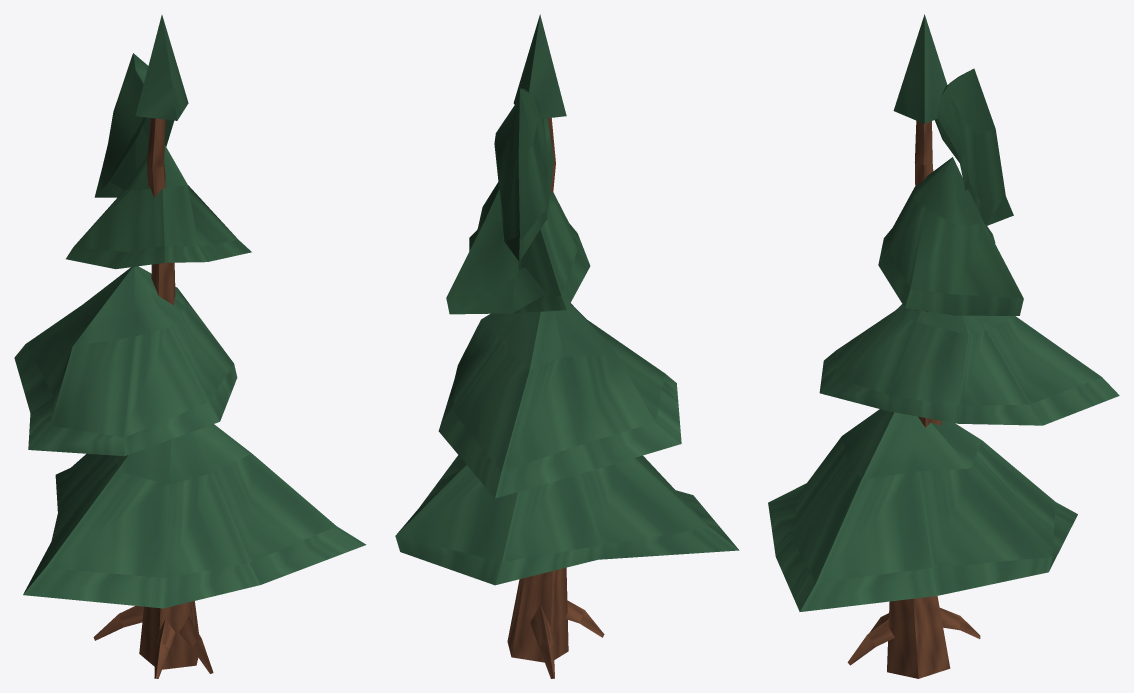
Rendered from SM_Tree_Pine_Medium02_LOD1.fbx.
3 renders of one model, left to right at view 1: azimuth 30°, elevation 25°; view 2: azimuth 150°, elevation 25°; view 3: azimuth 270°, elevation 25°, orthographic.
Visible parts, largest first — view 1: SM_Tree_Pine_Medium02_LOD1; view 2: SM_Tree_Pine_Medium02_LOD1; view 3: SM_Tree_Pine_Medium02_LOD1.
Part boxes in pixels (x1,y1,x2,y2): SM_Tree_Pine_Medium02_LOD1: [14, 15, 366, 678]; SM_Tree_Pine_Medium02_LOD1: [395, 14, 739, 678]; SM_Tree_Pine_Medium02_LOD1: [768, 14, 1119, 678].
Bounding box in the file's own units: 8.88 × 17.47 × 8.55.
Materials: 1 (1 with a texture image).
